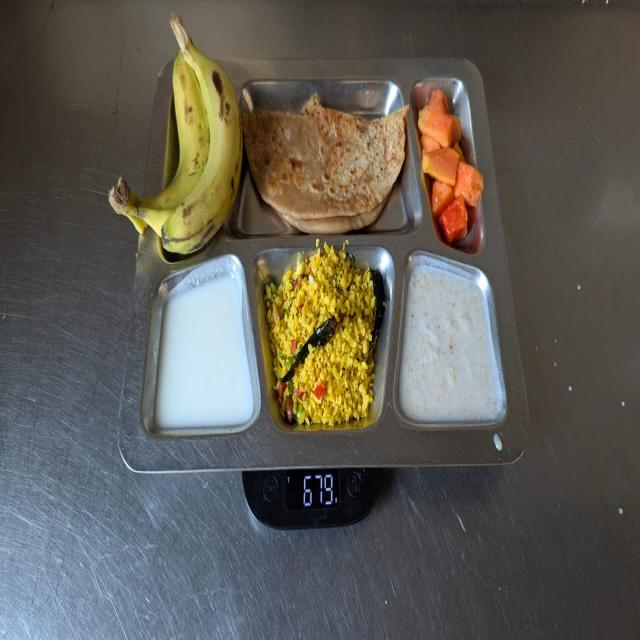Banana: (106, 14, 243, 258)
Chapati: (243, 89, 408, 234)
Curd: (156, 274, 256, 436)
Papaya: (416, 86, 484, 249)
Poha: (264, 239, 379, 425)
Porridge: (398, 266, 506, 430)
